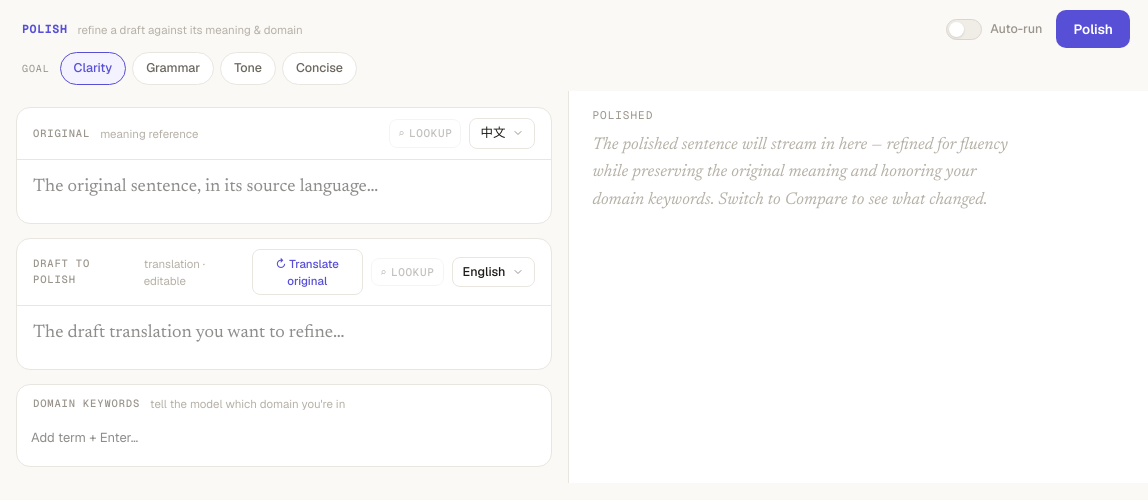
PolishPanel › auto-saves the CLEANED full polish result, not the model prose (feature #14 + #96)
Type "rough draft" into the text box named "Draft to polish" at (189, 334), box top-left (17, 306), bottom-right (360, 362)
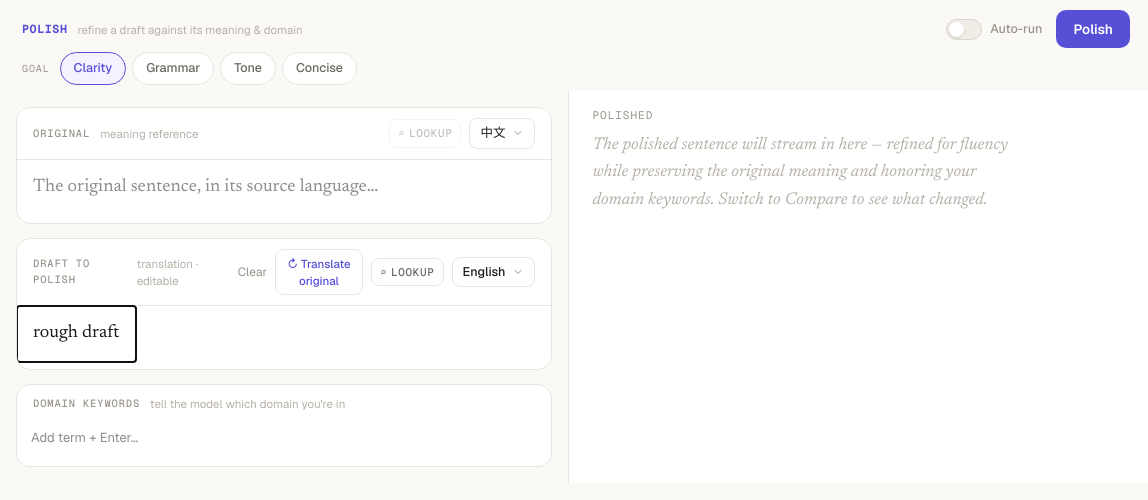
Click the button "Polish" at (1093, 29), box top-left (1056, 10), bottom-right (1130, 48)
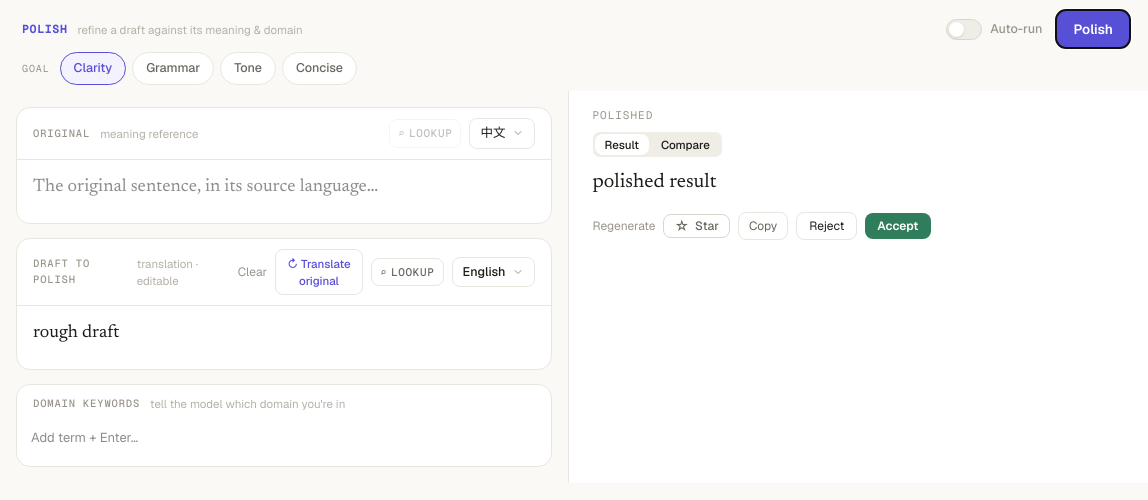
Expected: the element showing "polished result" is shown, top-left (592, 172), bottom-right (716, 192)
